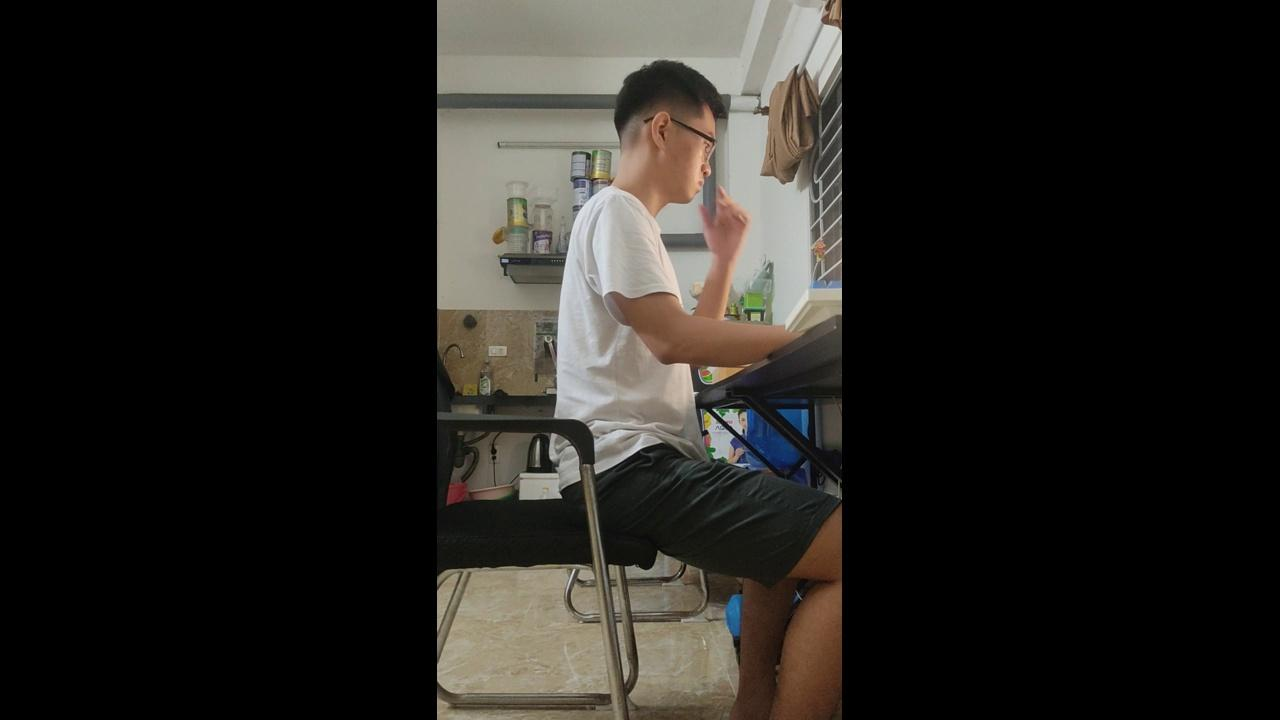GoodPosture: (556, 60, 843, 716)
